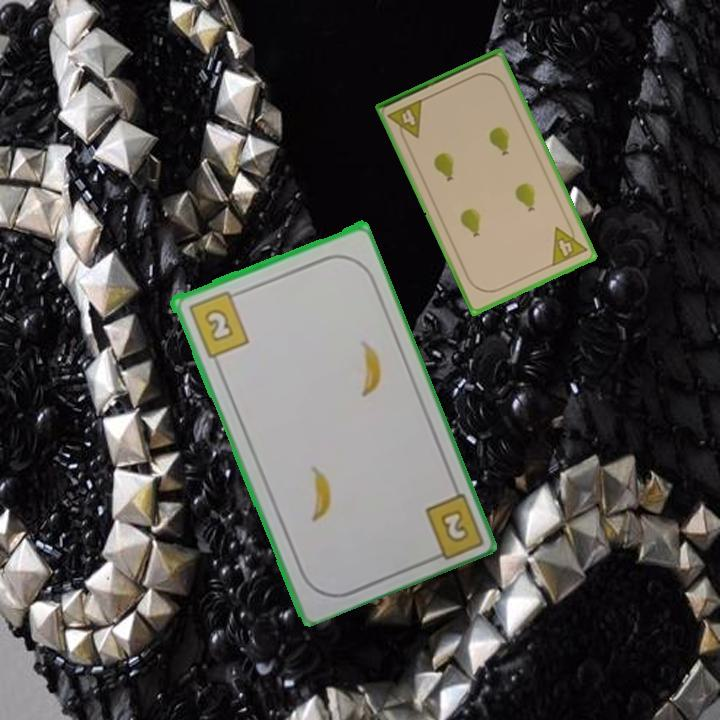2b: (184, 287, 252, 360), (436, 505, 472, 545)
4p: (548, 218, 590, 269), (384, 95, 426, 145)
